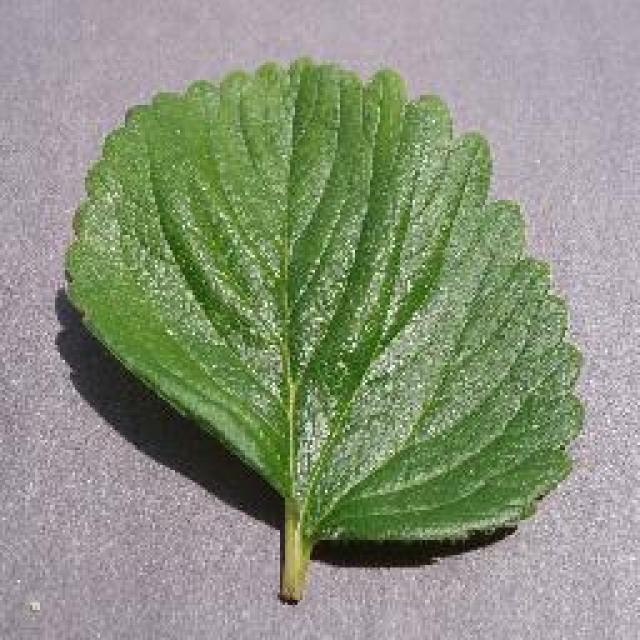Strawberry___healthy: (53, 33, 595, 615)
